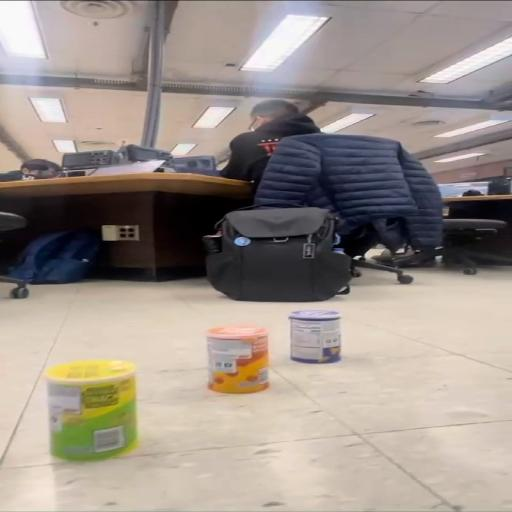pringle can: (33, 357, 149, 463), (207, 326, 268, 393), (290, 310, 341, 363)
